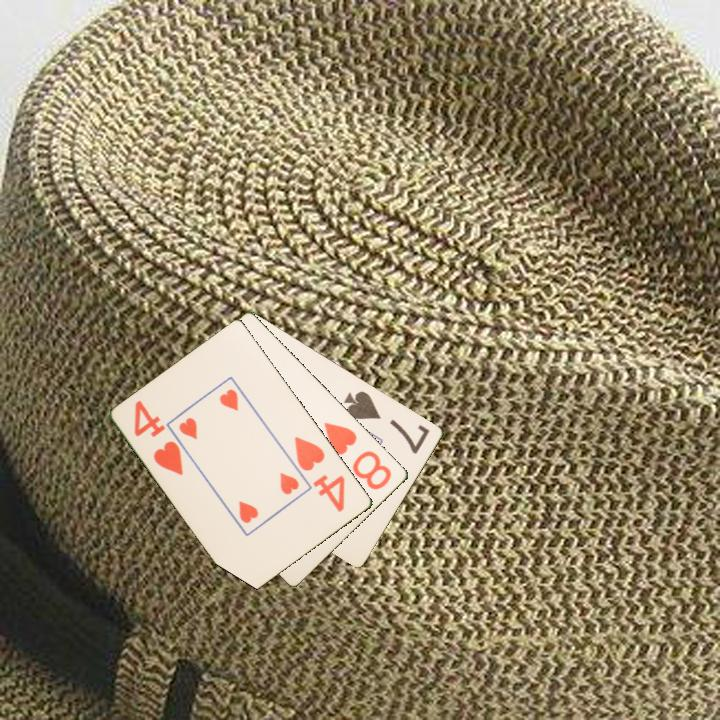4h: (291, 433, 348, 515), (131, 396, 186, 479)
7s: (341, 387, 433, 457)
8h: (321, 418, 395, 493)
